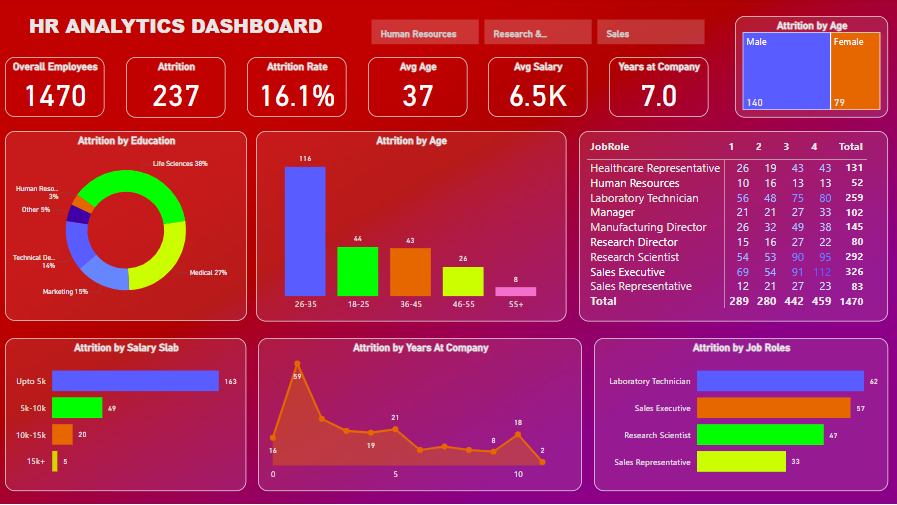

Layout of this report page (visuals, bound fields, positions):
{"tool":"powerbi","page":{"name":"Page 1","canvas":[1280,720],"ordinal":0},"visuals":[{"type":"card","title":"Overall Employees","fields":{"Values":["CountNonNull(HR_Analytics.EmpID)"]},"box":[14.3,84.2,141,85],"z":0},{"type":"card","title":"Attrition Rate","fields":{"Values":["HR_Analytics.AttritionRate"]},"box":[357,84.2,141,85],"z":1000},{"type":"card","title":"Attrition","fields":{"Values":["Sum(HR_Analytics.AttritionCount)"]},"box":[185.5,84.2,141.3,85.6],"z":2000},{"type":"card","title":"Avg Age","fields":{"Values":["Avg(HR_Analytics.Age)"]},"box":[528.2,84.2,141,85],"z":3000},{"type":"card","title":"Years at Company","fields":{"Values":["Avg(HR_Analytics.YearsAtCompany)"]},"box":[870.6,84.2,141,85],"z":4000},{"type":"card","title":"Avg Salary","fields":{"Values":["Avg(HR_Analytics.MonthlyIncome)"]},"box":[699.4,84.2,141,85],"z":5000},{"type":"donutChart","title":"Attrition by Education","fields":{"Category":["HR_Analytics.EducationField"],"Y":["Sum(HR_Analytics.AttritionCount)"]},"box":[14.2,188.5,343,269.3],"z":6000},{"type":"columnChart","title":"Attrition by Age","fields":{"Y":["Sum(HR_Analytics.AttritionCount)"],"Category":["HR_Analytics.AgeGroup"]},"box":[369.6,188.4,439.5,269.7],"z":7000},{"type":"pivotTable","fields":{"Columns":["HR_Analytics.JobSatisfaction"],"Rows":["HR_Analytics.JobRole"],"Values":["Sum(HR_Analytics.EmployeeCount)"]},"box":[827.6,188.4,438.1,269.7],"z":8000},{"type":"barChart","title":"Attrition by Salary Slab","fields":{"Category":["HR_Analytics.SalarySlab"],"Y":["Sum(HR_Analytics.AttritionCount)"]},"box":[14.3,482.3,342.5,216.9],"z":9000},{"type":"barChart","title":"Attrition by Job Roles","fields":{"Y":["Sum(HR_Analytics.AttritionCount)"],"Category":["HR_Analytics.JobRole"]},"box":[849.1,482.3,416.7,216.9],"z":10000},{"type":"areaChart","title":"Attrition by Years At Company","fields":{"Category":["HR_Analytics.YearsAtCompany"],"Y":["Sum(HR_Analytics.AttritionCount)"]},"box":[373.2,482.3,459.5,216.9],"z":11000},{"type":"treemap","title":"Attrition by Age","fields":{"Group":["HR_Analytics.Gender"],"Values":["Sum(HR_Analytics.AttritionCount)"]},"box":[1048.8,25.7,216.9,144.1],"z":12000},{"type":"advancedSlicerVisual","fields":{"Values":["HR_Analytics.Department"]},"box":[528,25.7,483.7,45.7],"z":13000},{"type":"textbox","box":[14.2,15.6,483.3,55.3],"z":14000}]}

Visuals, with their boxes in screenshot pixels (x1, y1, x2, y2), scaled from the page's 1280x720 canvas onto the 897x505 screenshot:
"Overall Employees" card: <bbox>10, 59, 109, 119</bbox>
"Attrition Rate" card: <bbox>250, 59, 349, 119</bbox>
"Attrition" card: <bbox>130, 59, 229, 119</bbox>
"Avg Age" card: <bbox>370, 59, 469, 119</bbox>
"Years at Company" card: <bbox>610, 59, 709, 119</bbox>
"Avg Salary" card: <bbox>490, 59, 589, 119</bbox>
"Attrition by Education" donutChart: <bbox>10, 132, 250, 321</bbox>
"Attrition by Age" columnChart: <bbox>259, 132, 567, 321</bbox>
pivotTable - HR_Analytics.JobSatisfaction x HR_Analytics.JobRole: <bbox>580, 132, 887, 321</bbox>
"Attrition by Salary Slab" barChart: <bbox>10, 338, 250, 490</bbox>
"Attrition by Job Roles" barChart: <bbox>595, 338, 887, 490</bbox>
"Attrition by Years At Company" areaChart: <bbox>262, 338, 584, 490</bbox>
"Attrition by Age" treemap: <bbox>735, 18, 887, 119</bbox>
advancedSlicerVisual - HR_Analytics.Department: <bbox>370, 18, 709, 50</bbox>
textbox: <bbox>10, 11, 349, 50</bbox>
